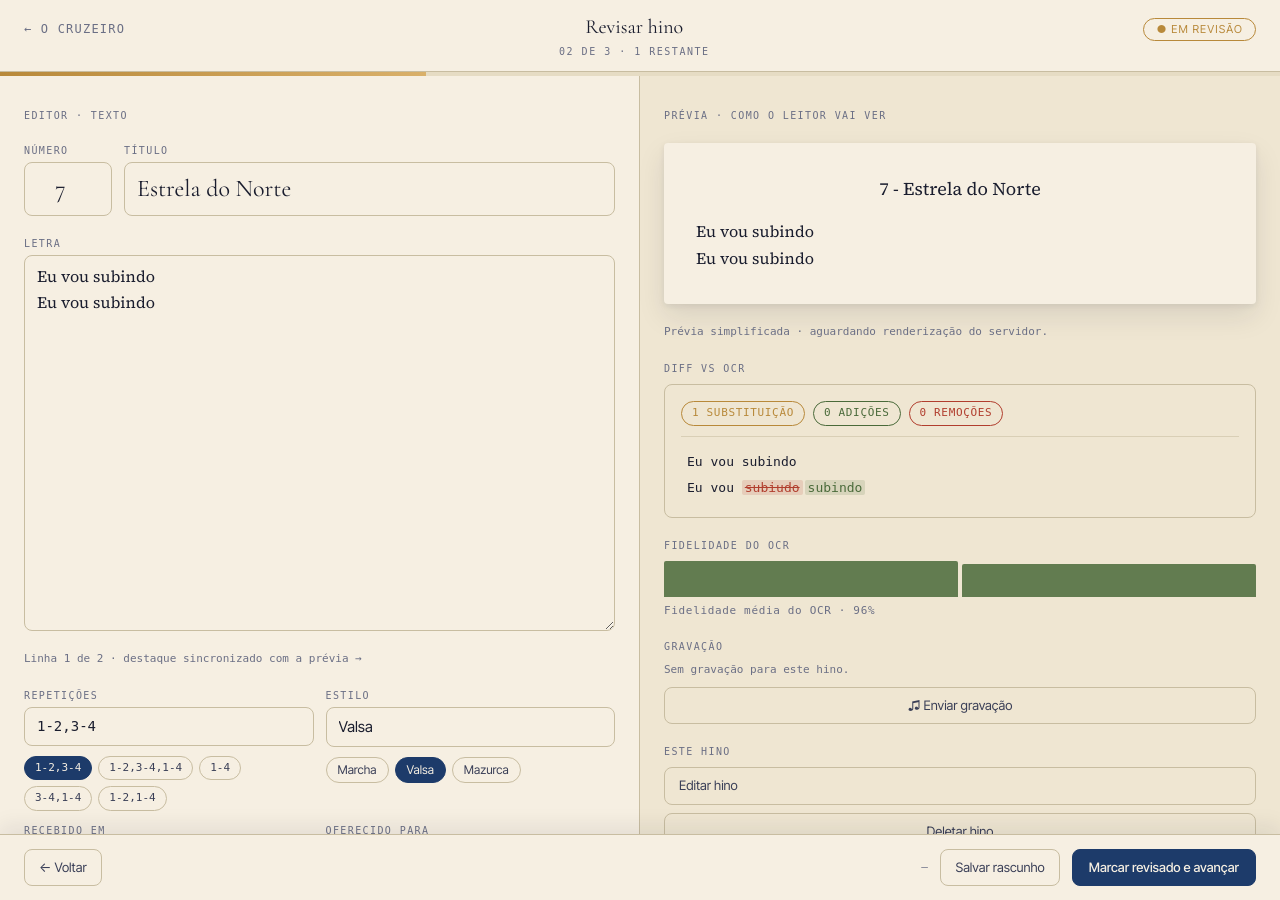
Scenario: 5C.6 — pílulas de estilo preenchem o campo › clicar em `Mazurca` escreve no input de Estilo
Expected: the field labelled "Estilo" holds "Valsa", 326,707 -> 615,747
Step 1. Click the button "Mazurca" → {"x": 486, "y": 770}, box 452,757 -> 521,783
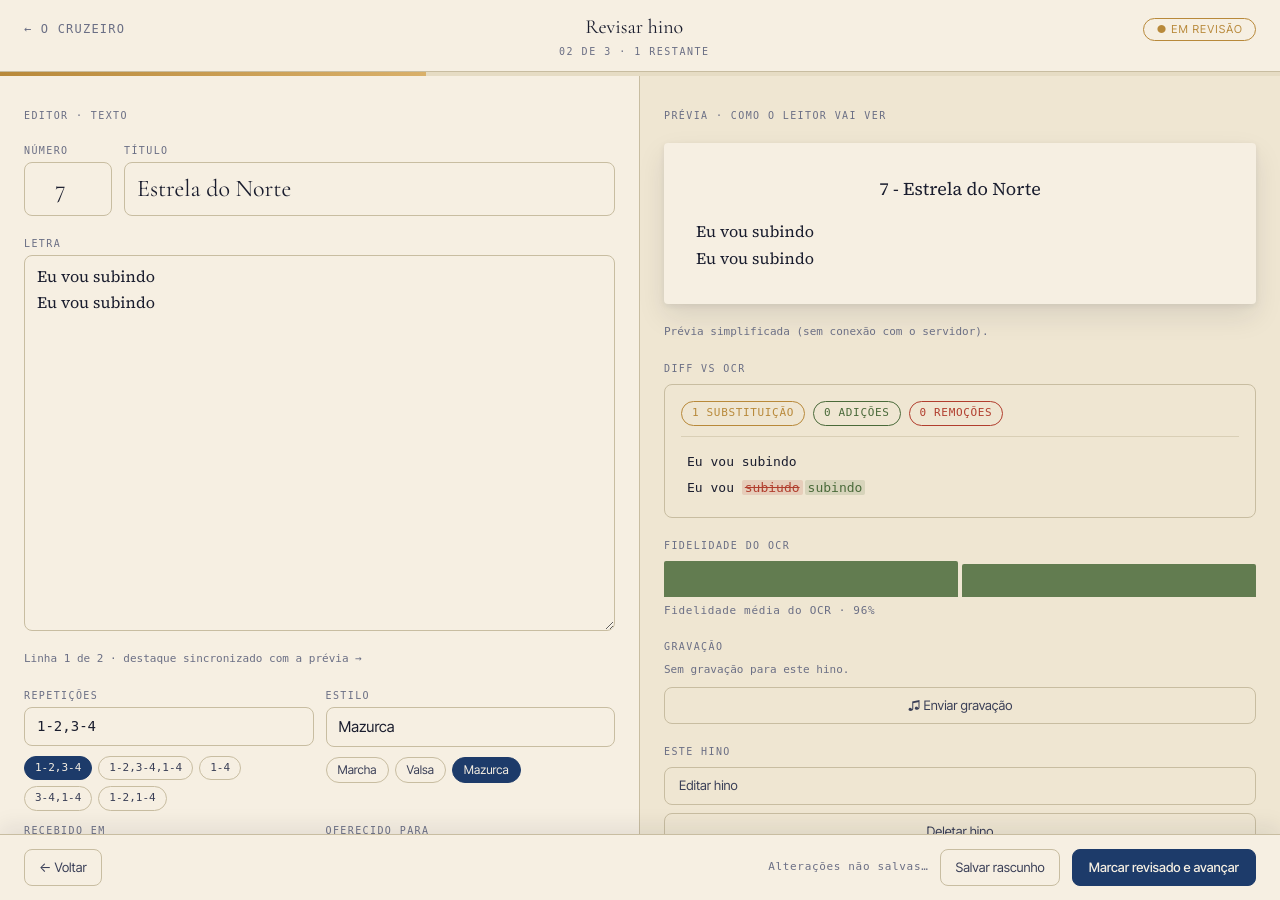
Expected: the field labelled "Estilo" holds "Mazurca", 326,707 -> 615,747
